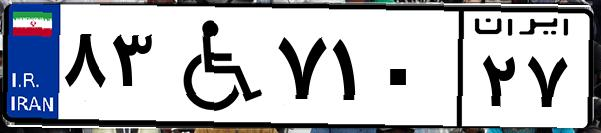0: (385, 28, 445, 110)
1: (330, 28, 385, 110)
2: (475, 38, 525, 113)
3: (110, 28, 158, 98)
7: (270, 28, 330, 110), (525, 38, 570, 115)
8: (57, 26, 110, 100)
ژ (معلولین و جانبازان): (158, 12, 270, 120)
